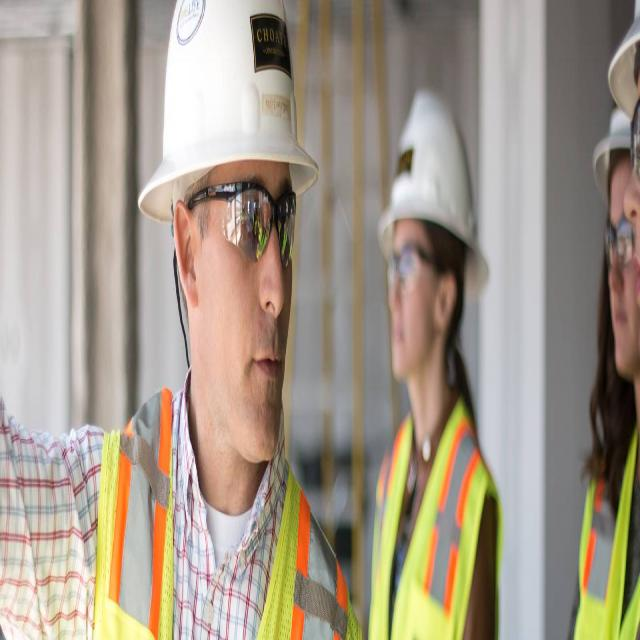Reflective-Jacket: (95, 397, 366, 640), (366, 392, 510, 640), (569, 371, 640, 640)
Safety-Helmet: (138, 1, 318, 237), (374, 78, 492, 306), (606, 0, 640, 157)
